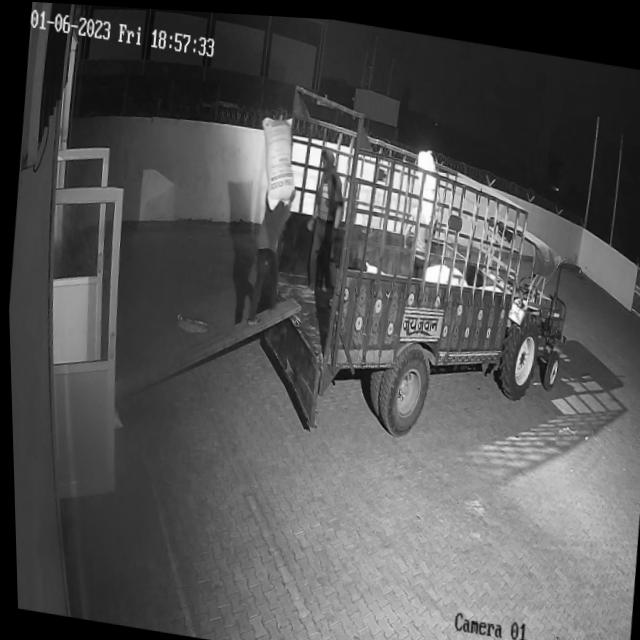sack: (252, 110, 300, 210)
